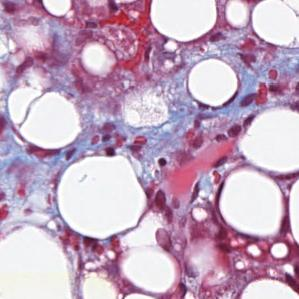inflammation: (235, 63, 284, 109)
